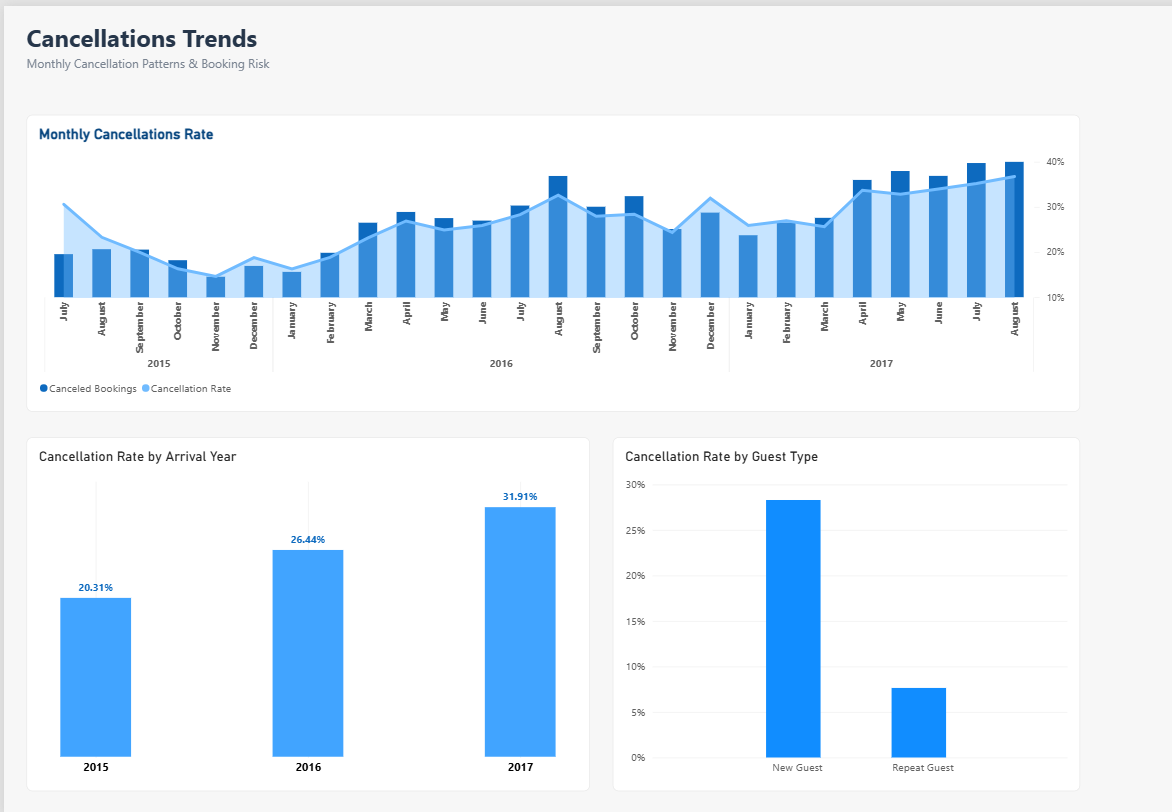

What the dashboard file says about the page in this screenshot:
{"tool":"powerbi","page":{"name":"Cancellation Trends","canvas":[1920,1080],"ordinal":2},"visuals":[{"type":"textbox","title":"Cancellations Trends","box":[30,20,1236,78],"z":0},{"type":"lineStackedColumnComboChart","title":"Monthly Cancellations Rate","fields":{"Category":["hotel_bookings_cleaned.arrival_date.Variation.Date Hierarchy.Year","hotel_bookings_cleaned.arrival_date.Variation.Date Hierarchy.Month"],"Y":["hotel_bookings_cleaned.Canceled Bookings"],"Y2":["hotel_bookings_cleaned.Cancellation Rate"]},"box":[30.3,145,1404.5,396],"z":1000},{"type":"clusteredColumnChart","title":"Cancellation Rate by Arrival Year","fields":{"Category":["hotel_bookings_cleaned.arrival_date_year"],"Y":["hotel_bookings_cleaned.Cancellation Rate"]},"box":[30.3,575.7,751,471.8],"z":2000},{"type":"columnChart","title":"Cancellation Rate by Guest Type","fields":{"Category":["hotel_bookings_cleaned.Guest Type"],"Y":["hotel_bookings_cleaned.Cancellation Rate"]},"box":[811.6,575.7,623.3,471.8],"z":3000}]}

Visuals, with their boxes on the page's 1920x1080 design canvas (x1, y1, x2, y2). These are canvas units, not pixel positions in the 1172x812 screenshot, which may show the page scaled, cropped or inside an application window:
"Cancellations Trends" textbox: {"left": 30, "top": 20, "right": 1266, "bottom": 98}
"Monthly Cancellations Rate" lineStackedColumnComboChart: {"left": 30, "top": 145, "right": 1435, "bottom": 541}
"Cancellation Rate by Arrival Year" clusteredColumnChart: {"left": 30, "top": 576, "right": 781, "bottom": 1048}
"Cancellation Rate by Guest Type" columnChart: {"left": 812, "top": 576, "right": 1435, "bottom": 1048}
